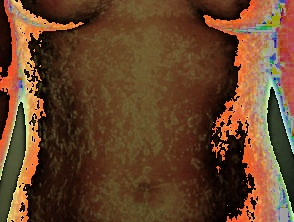SJS-TEN: (17, 0, 282, 222)
